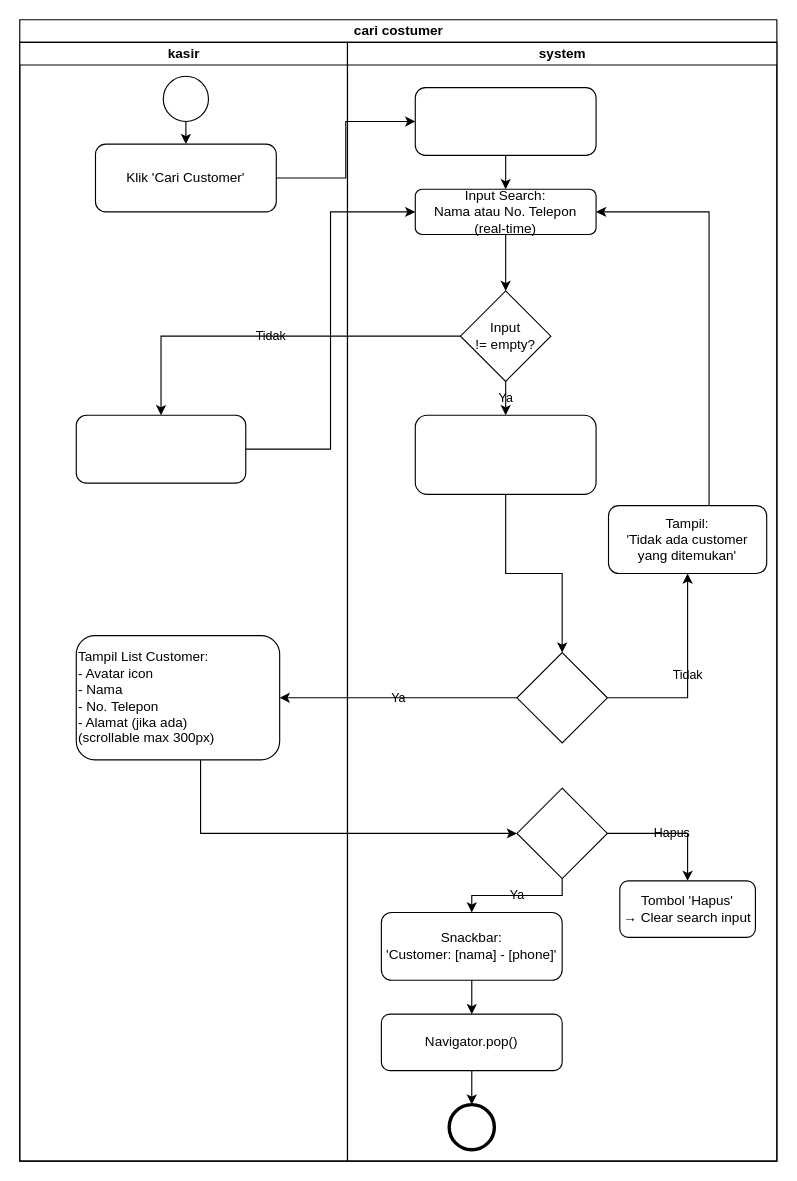
Some shapes in this 797 by 1181 pixel diagram are drawn without their labels. The centre of each missing label's shape, as x and y in pixels:
_showSearchCustomerDialog() (tampil dialog search): [505,120]
CustomerService .searchCustomer(value) (query database): [505,454]
Results != empty?: [561,697]
Tampil state: (kosong, tunggu input): [160,448]
Tap Customer?: [561,833]
